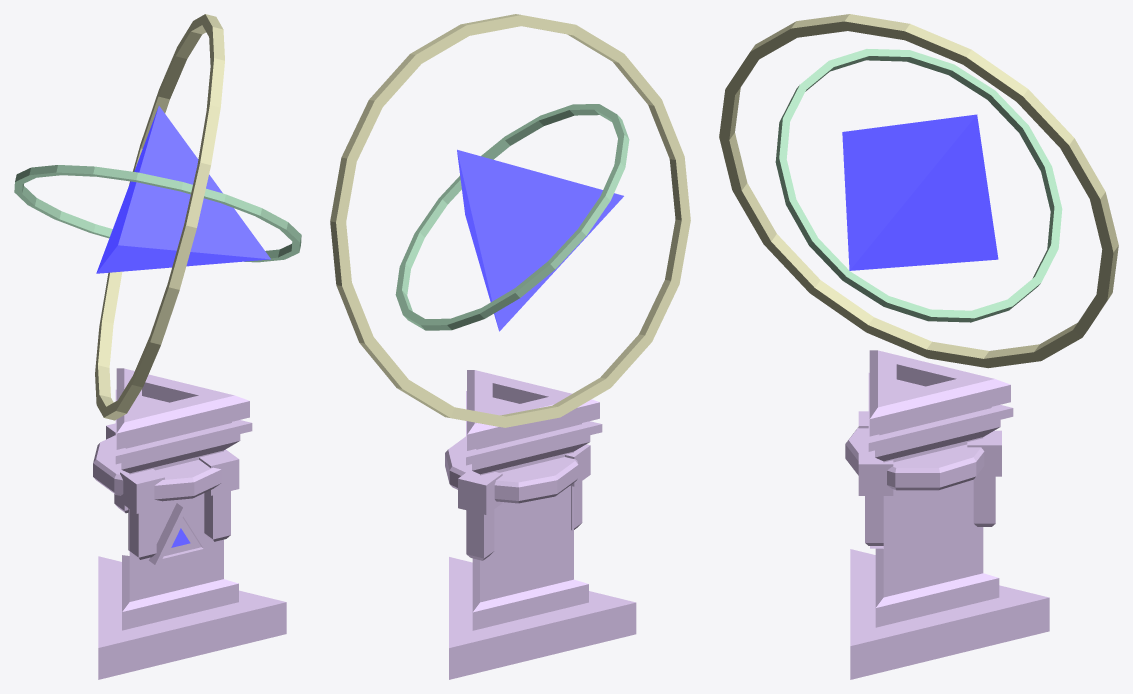
File: 三角遗迹.fbx
The picture shows the model from 3 angles, left to right: view 1: azimuth 30°, elevation 25°; view 2: azimuth 150°, elevation 25°; view 3: azimuth 270°, elevation 25°; orthographic projection. The views are drawn at different scales.
Visible parts, largest first — view 1: Circle.003, Cube.014, Cylinder.004, Cylinder.006, Circle.004, Cube.011, Cube.012, Cylinder.003; view 2: Circle.003, Cylinder.004, Cube.014, Cylinder.006, Circle.004, Cube.013, Cube.011; view 3: Circle.003, Cube.014, Cylinder.004, Cylinder.006, Circle.004, Cube.012, Cube.013.
Part boxes in pixels (bbox=[...]): Circle.003: bbox=[98, 368, 286, 679]; Cube.014: bbox=[96, 106, 270, 273]; Cylinder.004: bbox=[95, 14, 224, 420]; Cylinder.006: bbox=[14, 165, 301, 262]; Circle.004: bbox=[93, 435, 221, 501]; Cube.011: bbox=[120, 469, 164, 559]; Cube.012: bbox=[199, 449, 239, 541]; Cylinder.003: bbox=[149, 503, 210, 564]; Circle.003: bbox=[449, 370, 636, 679]; Cylinder.004: bbox=[330, 14, 690, 427]; Cube.014: bbox=[457, 149, 623, 331]; Cylinder.006: bbox=[395, 104, 629, 330]; Circle.004: bbox=[445, 436, 578, 503]; Cube.013: bbox=[458, 468, 502, 560]; Cube.011: bbox=[565, 444, 590, 530]; Circle.003: bbox=[850, 350, 1049, 679]; Cube.014: bbox=[842, 114, 998, 270]; Cylinder.004: bbox=[719, 14, 1118, 368]; Cylinder.006: bbox=[775, 49, 1062, 322]; Circle.004: bbox=[845, 427, 984, 490]; Cube.012: bbox=[858, 449, 893, 545]; Cube.013: bbox=[967, 430, 1001, 526].
Size of the model in its own units: 3806 by 9570 by 5482.
